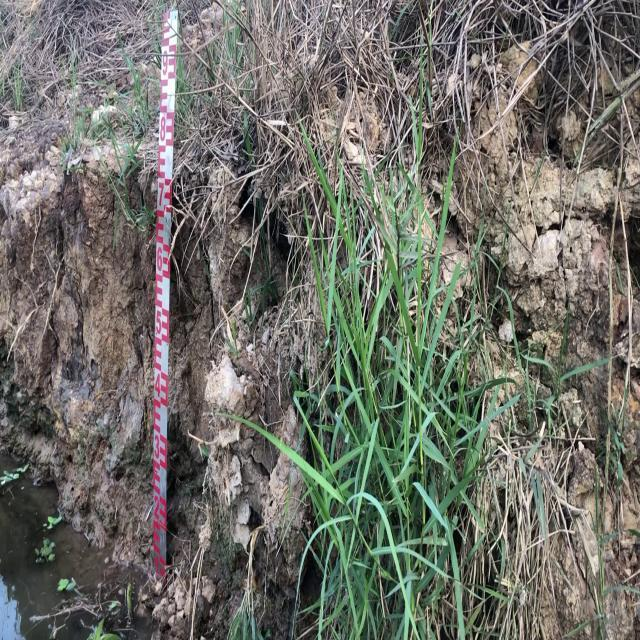ruler: (140, 2, 186, 596)
value: (152, 305, 164, 339), (154, 242, 166, 275), (157, 111, 168, 146), (159, 46, 170, 80), (152, 368, 163, 402), (151, 430, 162, 463), (156, 176, 166, 212), (151, 491, 162, 522)
